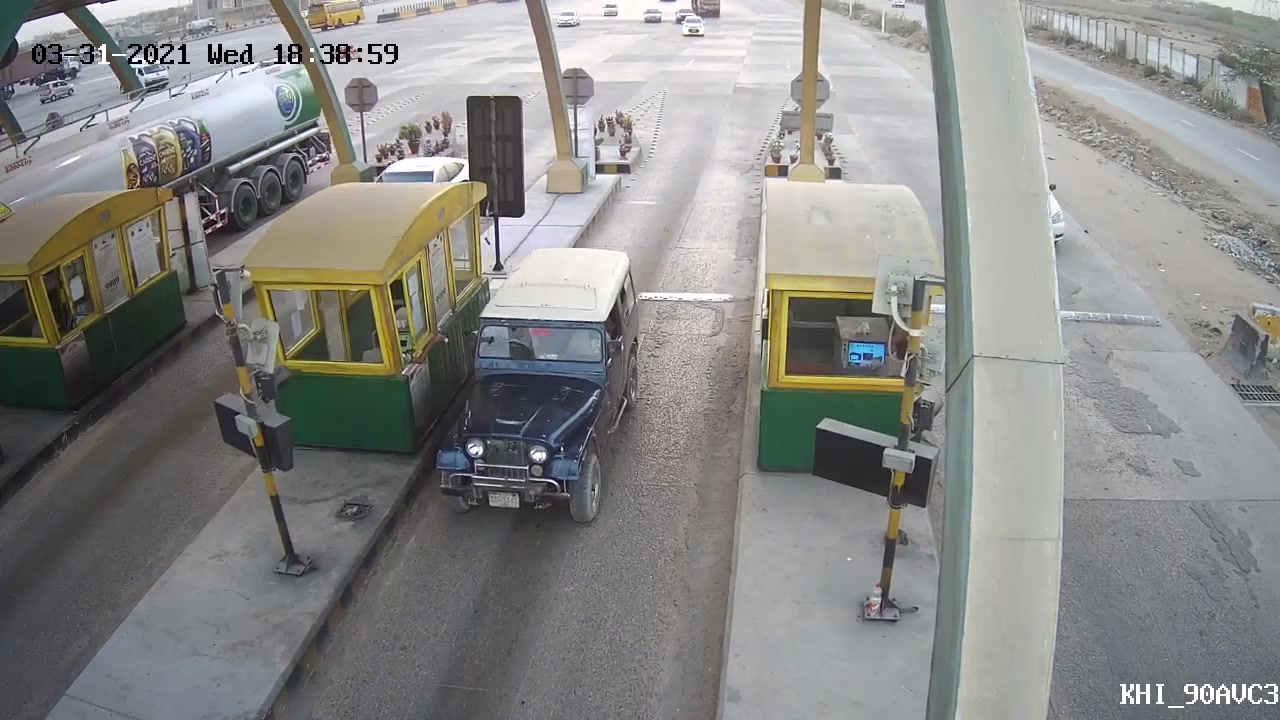F1: (436, 236, 657, 523)
